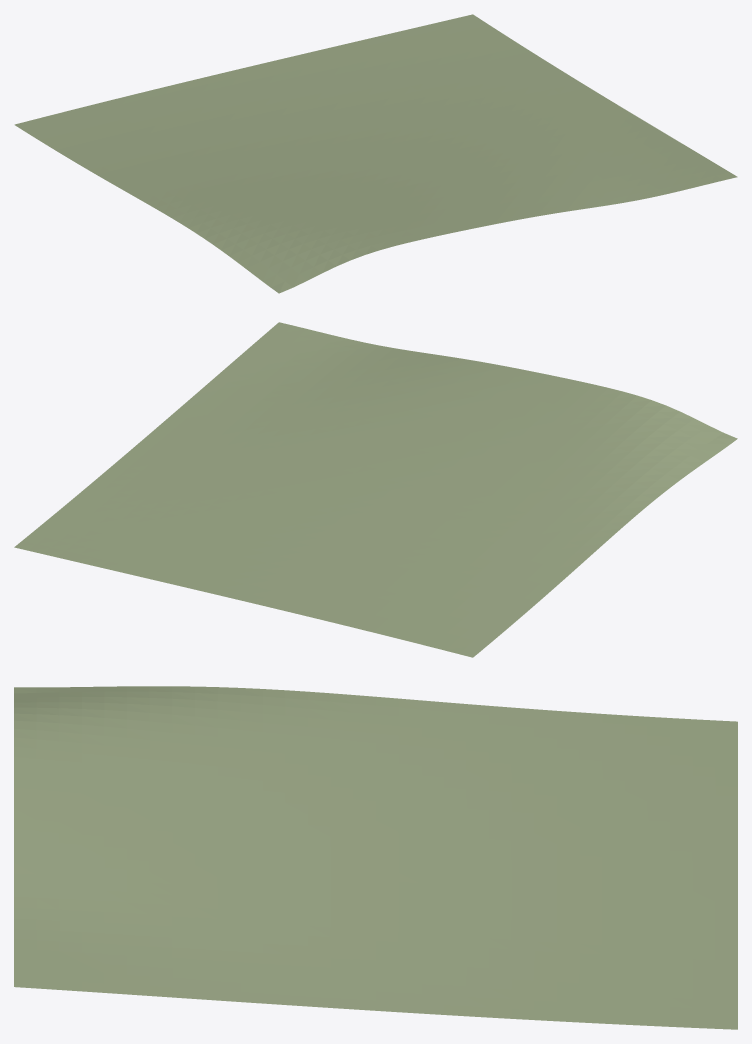
Rendered from lunar-3-3.glb.
3 renders of one model, top to bottom at view 1: azimuth 30°, elevation 25°; view 2: azimuth 150°, elevation 25°; view 3: azimuth 270°, elevation 25°, orthographic. The views are drawn at different scales.
Parts seen in each view (by area): view 1: lunar-3-3; view 2: lunar-3-3; view 3: lunar-3-3.
Boxes of the visible parts, box(x1,y1,x2,y2) form: lunar-3-3: box(14, 14, 737, 293); lunar-3-3: box(14, 322, 737, 657); lunar-3-3: box(14, 686, 737, 1029).
Bounding box in the file's own units: 128 × 12.26 × 128.
